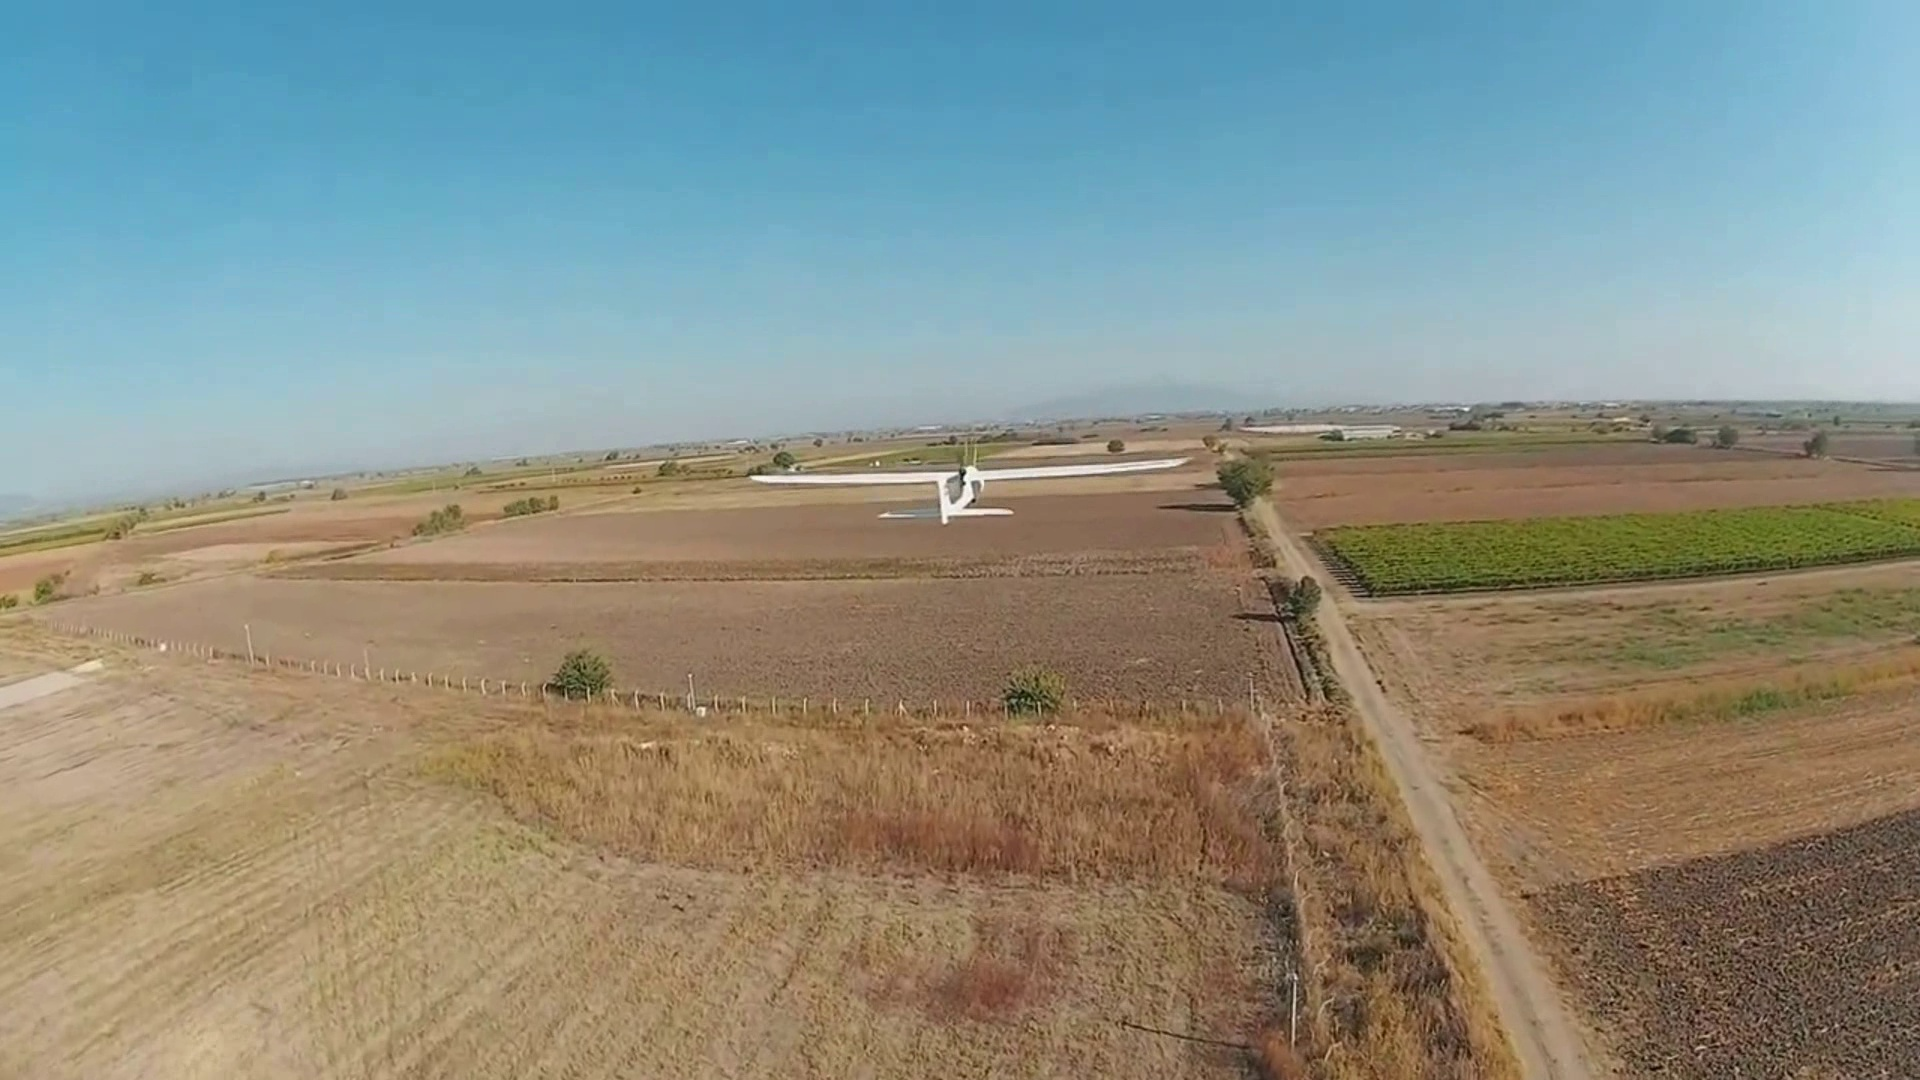airplane: (913, 445, 1201, 518)
